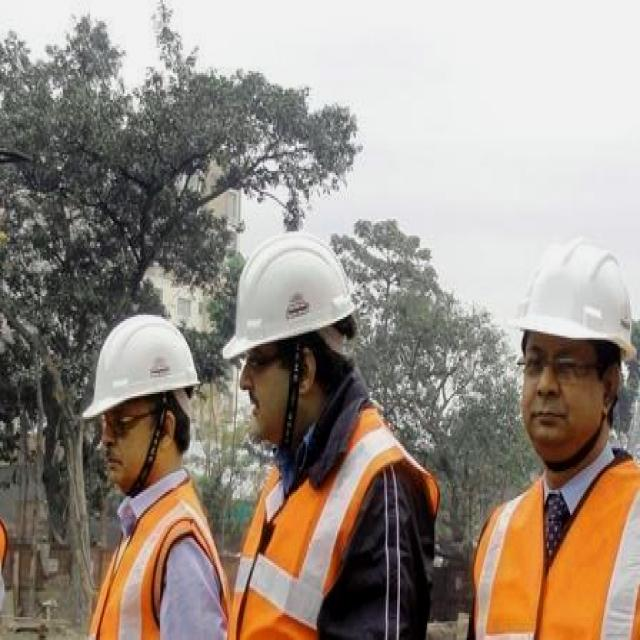face_nomask: (514, 334, 597, 458), (96, 394, 171, 486), (239, 338, 307, 436)
glasses: (516, 346, 591, 386), (97, 408, 134, 443)
head_helmet: (219, 233, 360, 365), (506, 234, 638, 352), (87, 313, 197, 425)
person: (223, 231, 436, 640), (469, 239, 639, 640), (86, 310, 233, 640)
vest: (233, 406, 425, 640), (474, 475, 639, 640), (90, 494, 230, 640)
